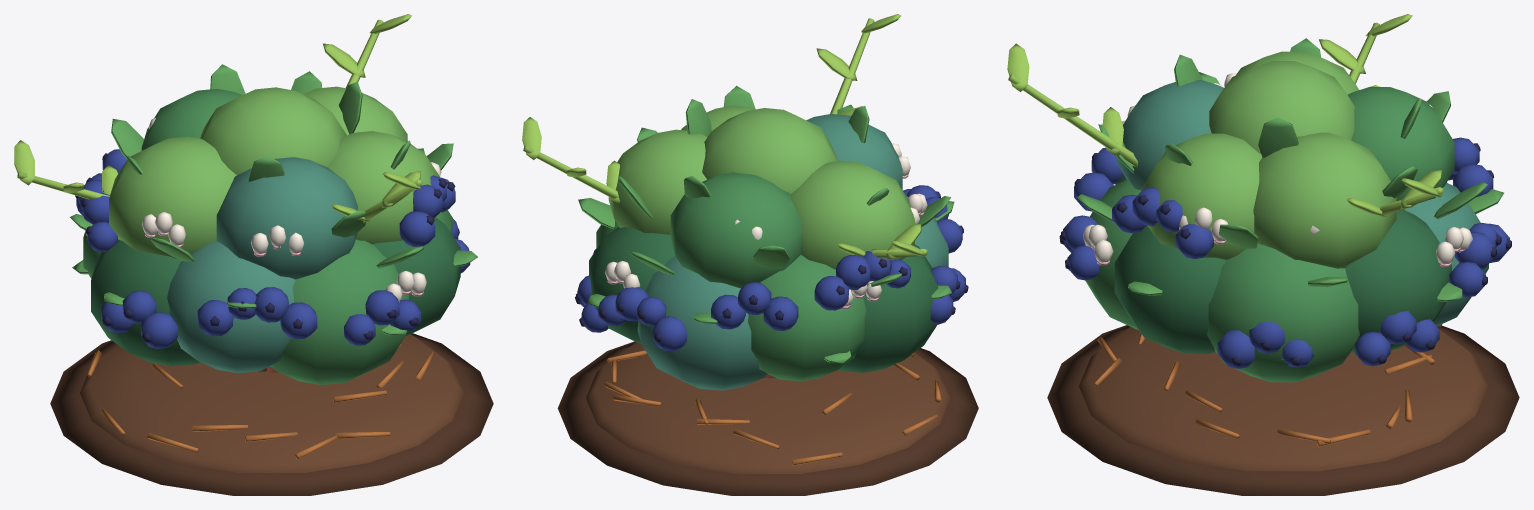
The model's file is blueberry-bush.glb.
3 views of the same model, side by side, from view 1: azimuth 30°, elevation 25°; view 2: azimuth 150°, elevation 25°; view 3: azimuth 270°, elevation 25° (orthographic). The views are drawn at different scales.
Visible parts, largest first — view 1: BB_canopy, BB_mound_soil, BB_mound_rim, BB_mound, BB_berry_5_1, BB_berry_6_1, BB_berry_8_4, BB_berry_6_4, BB_berry_6_2, BB_berry_7_2, BB_berry_5_2, BB_berry_7_3 (+9 smaller); view 2: BB_canopy, BB_mound_soil, BB_mound_rim, BB_mound, BB_berry_4_4, BB_berry_2_1, BB_berry_3_1, BB_berry_4_3, BB_berry_3_3, BB_berry_3_2, BB_shoot_3_stem, BB_berry_2_3 (+9 smaller); view 3: BB_canopy, BB_mound_soil, BB_mound_rim, BB_mound, BB_shoot_3_stem, BB_berry_9_3, BB_berry_8_1, BB_berry_2_4, BB_berry_1_3, BB_berry_1_2, BB_berry_2_3, BB_berry_7_1 (+14 smaller).
Boxes of the visible parts, x1=… form: BB_canopy: x1=70, y1=64, x2=477, y2=385; BB_mound_soil: x1=80, y1=334, x2=463, y2=472; BB_mound_rim: x1=50, y1=333, x2=493, y2=495; BB_mound: x1=87, y1=344, x2=434, y2=459; BB_berry_5_1: x1=141, y1=312, x2=177, y2=348; BB_berry_6_1: x1=280, y1=302, x2=317, y2=339; BB_berry_8_4: x1=399, y1=211, x2=435, y2=246; BB_berry_6_4: x1=197, y1=300, x2=234, y2=336; BB_berry_6_2: x1=255, y1=287, x2=288, y2=322; BB_berry_7_2: x1=365, y1=290, x2=399, y2=325; BB_berry_5_2: x1=122, y1=290, x2=156, y2=323; BB_berry_7_3: x1=344, y1=314, x2=375, y2=345; BB_canopy: x1=578, y1=85, x2=954, y2=390; BB_mound_soil: x1=586, y1=342, x2=950, y2=473; BB_mound_rim: x1=557, y1=341, x2=978, y2=495; BB_mound: x1=604, y1=350, x2=941, y2=465; BB_berry_4_4: x1=814, y1=276, x2=849, y2=310; BB_berry_2_1: x1=653, y1=316, x2=686, y2=351; BB_berry_3_1: x1=763, y1=296, x2=798, y2=330; BB_berry_4_3: x1=836, y1=254, x2=870, y2=289; BB_berry_3_3: x1=711, y1=294, x2=745, y2=329; BB_berry_3_2: x1=738, y1=282, x2=771, y2=314; BB_shoot_3_stem: x1=830, y1=18, x2=874, y2=114; BB_berry_2_3: x1=615, y1=287, x2=649, y2=321; BB_canopy: x1=1069, y1=38, x2=1503, y2=382; BB_mound_soil: x1=1079, y1=327, x2=1487, y2=471; BB_mound_rim: x1=1047, y1=325, x2=1519, y2=495; BB_mound: x1=1093, y1=324, x2=1442, y2=447; BB_shoot_3_stem: x1=1008, y1=74, x2=1137, y2=167; BB_berry_9_3: x1=1217, y1=330, x2=1255, y2=368; BB_berry_8_1: x1=1175, y1=224, x2=1213, y2=258; BB_berry_2_4: x1=1449, y1=261, x2=1485, y2=297; BB_berry_1_3: x1=1355, y1=331, x2=1390, y2=366; BB_berry_1_2: x1=1379, y1=311, x2=1416, y2=344; BB_berry_2_3: x1=1454, y1=232, x2=1494, y2=269; BB_berry_7_1: x1=1067, y1=245, x2=1099, y2=280.
Size of the model in its own units: 1.19 by 0.9917 by 1.21.
